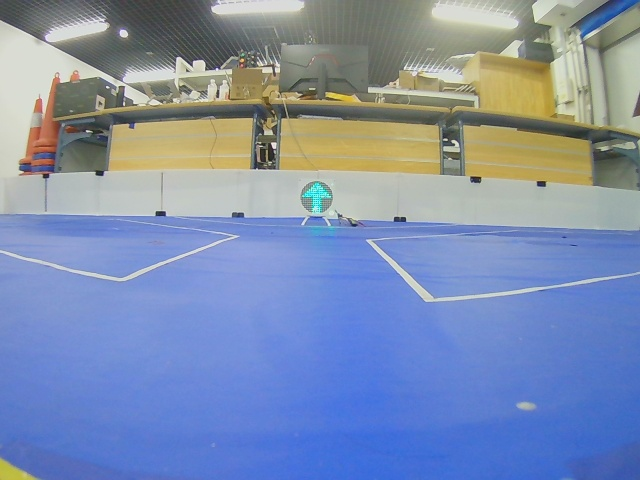straight_green: (300, 181, 333, 215)
